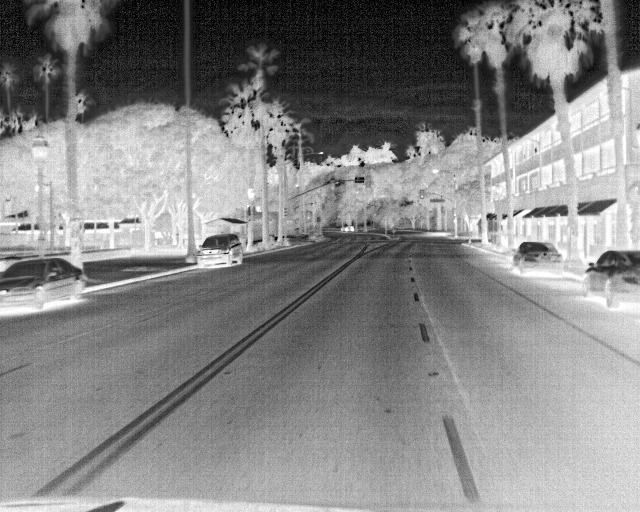car: (0, 256, 94, 317), (576, 250, 639, 310), (194, 232, 247, 269), (510, 239, 560, 276)
